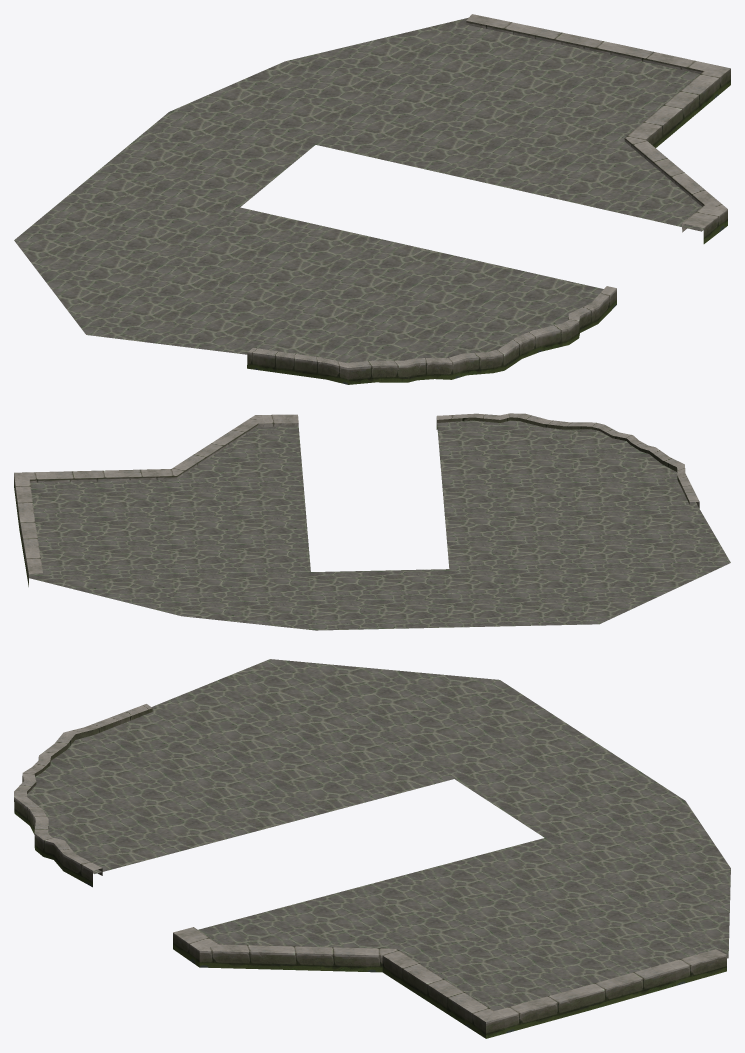
Rendered from xsz_diban_4.FBX.
The picture shows the model from 3 angles, top to bottom: view 1: azimuth 30°, elevation 25°; view 2: azimuth 150°, elevation 25°; view 3: azimuth 270°, elevation 25°; orthographic projection. The views are drawn at different scales.
Parts seen in each view (by area): view 1: xsz_diban_4; view 2: xsz_diban_4; view 3: xsz_diban_4.
Part boxes in pixels (x1=…): xsz_diban_4: x1=14, y1=14, x2=730, y2=384; xsz_diban_4: x1=14, y1=413, x2=730, y2=630; xsz_diban_4: x1=14, y1=659, x2=730, y2=1038.
Bounding box in the file's own units: 1685 × 35.94 × 1391.
